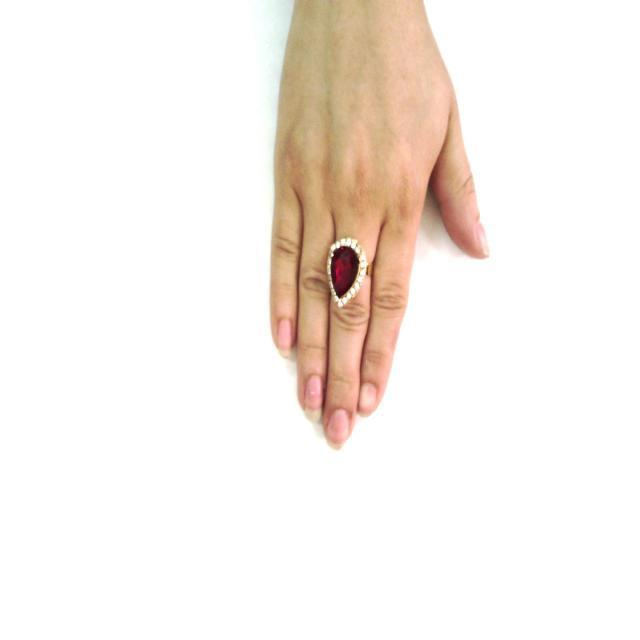Fingernail: (328, 410, 349, 443), (306, 375, 322, 410), (359, 384, 377, 414), (277, 318, 292, 350), (476, 223, 489, 255)
